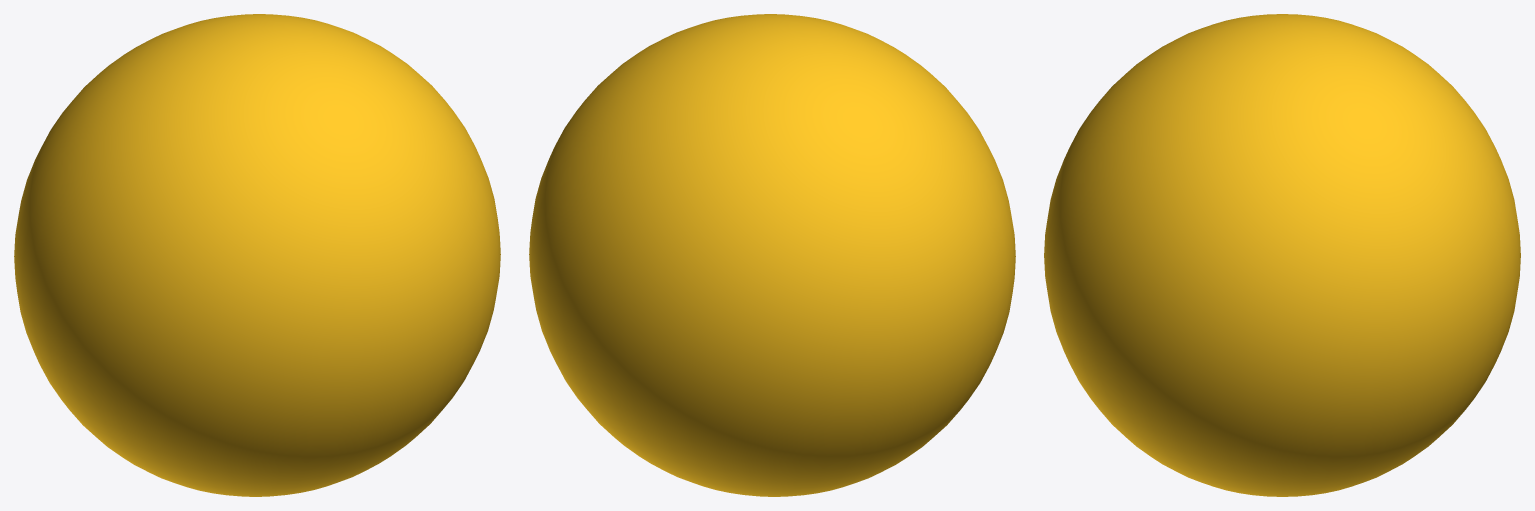
Rendered from fridge_contents__citrus.glb.
The picture shows the model from 3 angles, left to right: view 1: azimuth 30°, elevation 25°; view 2: azimuth 150°, elevation 25°; view 3: azimuth 270°, elevation 25°; orthographic projection.
Parts seen in each view (by area): view 1: fruit; view 2: fruit; view 3: fruit.
Part boxes in pixels (bbox=[...]): fruit: bbox=[14, 14, 500, 496]; fruit: bbox=[529, 14, 1015, 496]; fruit: bbox=[1044, 14, 1520, 496].
Size of the model in its own units: 0.087 by 0.086 by 0.085.
